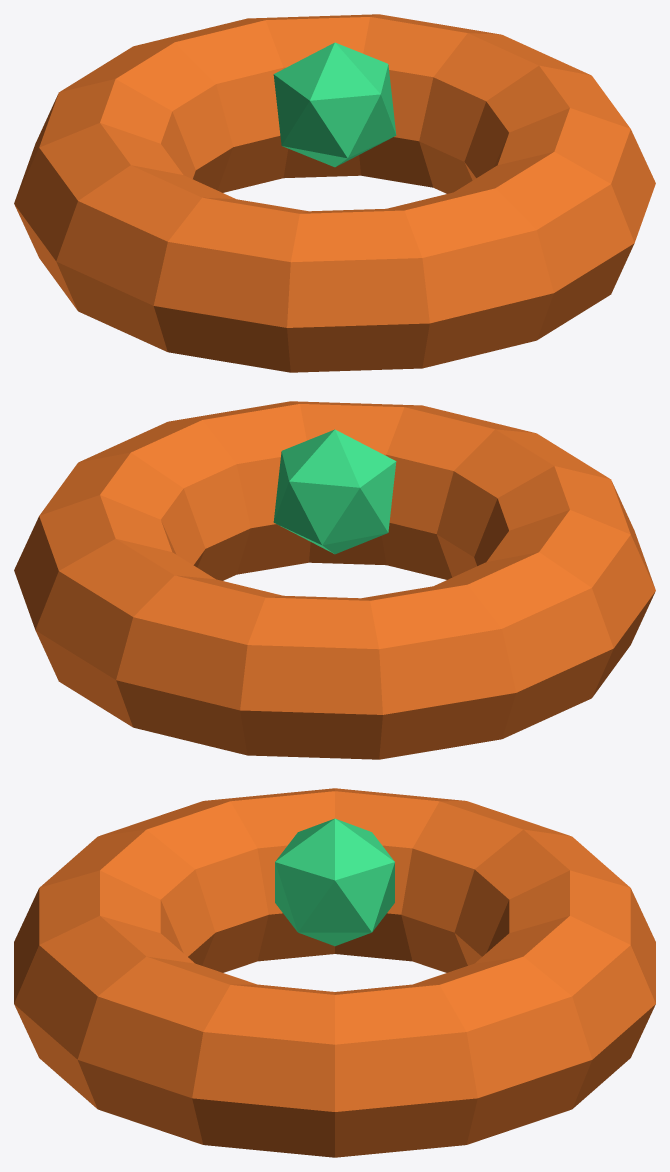
File: fruit_ring.glb
The picture shows the model from 3 angles, top to bottom: view 1: azimuth 30°, elevation 25°; view 2: azimuth 150°, elevation 25°; view 3: azimuth 270°, elevation 25°; orthographic projection. The views are drawn at different scales.
Parts seen in each view (by area): view 1: fruit_ring; view 2: fruit_ring; view 3: fruit_ring.
Boxes of the visible parts, x1,y1,x2,y2 form: fruit_ring: [14, 14, 655, 372]; fruit_ring: [14, 401, 655, 759]; fruit_ring: [14, 788, 655, 1157].
Size of the model in its own units: 2.24 by 0.88 by 2.18.
